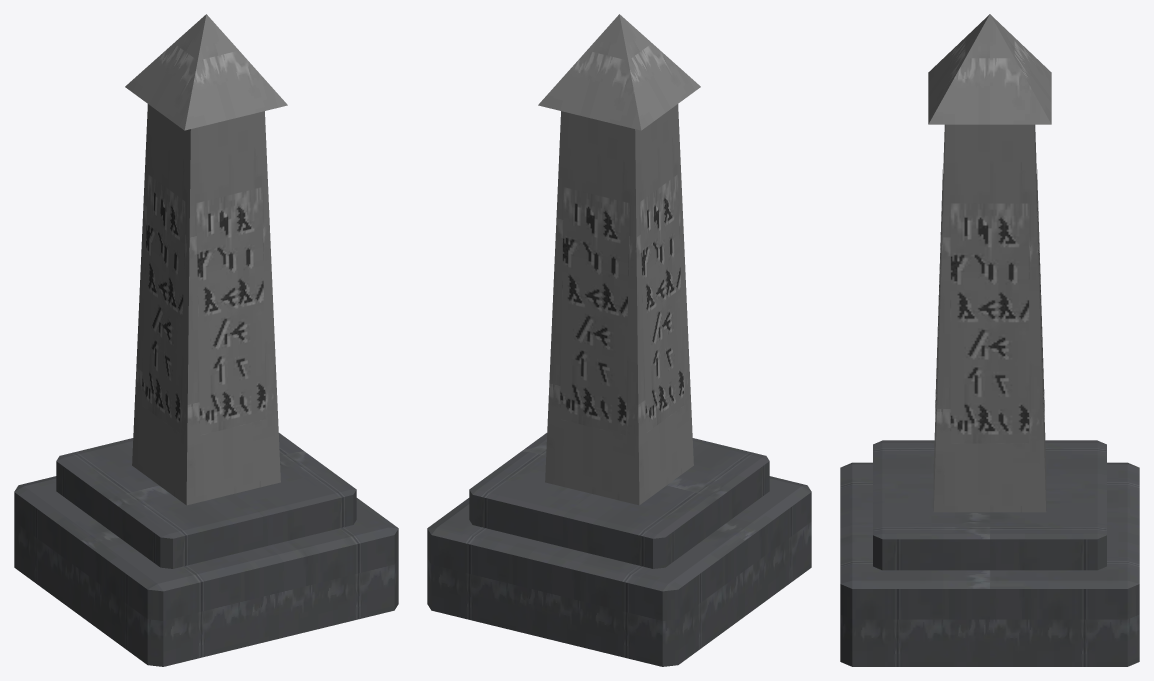
The model's file is sign2.glb.
3 views of the same model, side by side, from view 1: azimuth 30°, elevation 25°; view 2: azimuth 150°, elevation 25°; view 3: azimuth 270°, elevation 25° (orthographic). The views are drawn at different scales.
Visible parts, largest first — view 1: box; view 2: box; view 3: box.
Boxes of the visible parts, x1=… form: box: x1=14, y1=14, x2=398, y2=666; box: x1=427, y1=14, x2=811, y2=666; box: x1=840, y1=14, x2=1139, y2=666.
Bounding box in the file's own units: 1.65 × 3.6 × 1.65.
6 materials, 6 textured.
